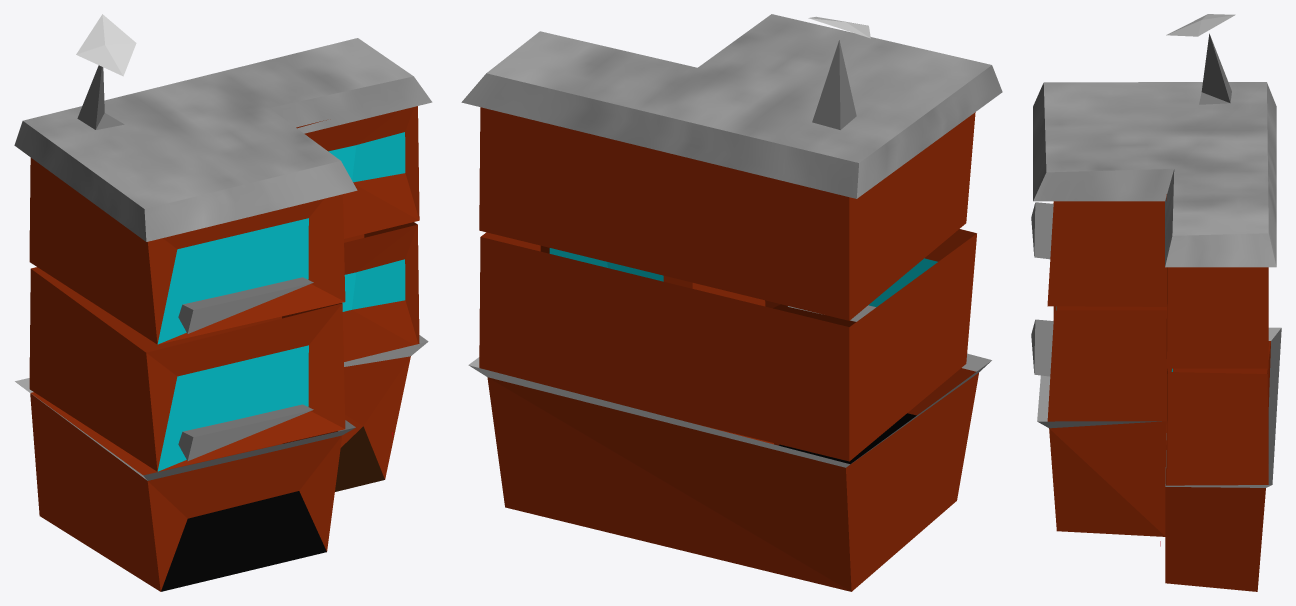
The model's file is PredioFormatoL-VermelhoLOD2.fbx.
3 views of the same model, side by side, from view 1: azimuth 30°, elevation 25°; view 2: azimuth 150°, elevation 25°; view 3: azimuth 270°, elevation 25° (orthographic). The views are drawn at different scales.
Visible parts, largest first — view 1: Predio4LOD2; view 2: Predio4LOD2; view 3: Predio4LOD2.
Part boxes in pixels (x1,y1,x2,y2): Predio4LOD2: [14, 14, 432, 591]; Predio4LOD2: [461, 14, 1002, 591]; Predio4LOD2: [1031, 14, 1281, 591].
Size of the model in its own units: 1080 by 1437 by 711.
